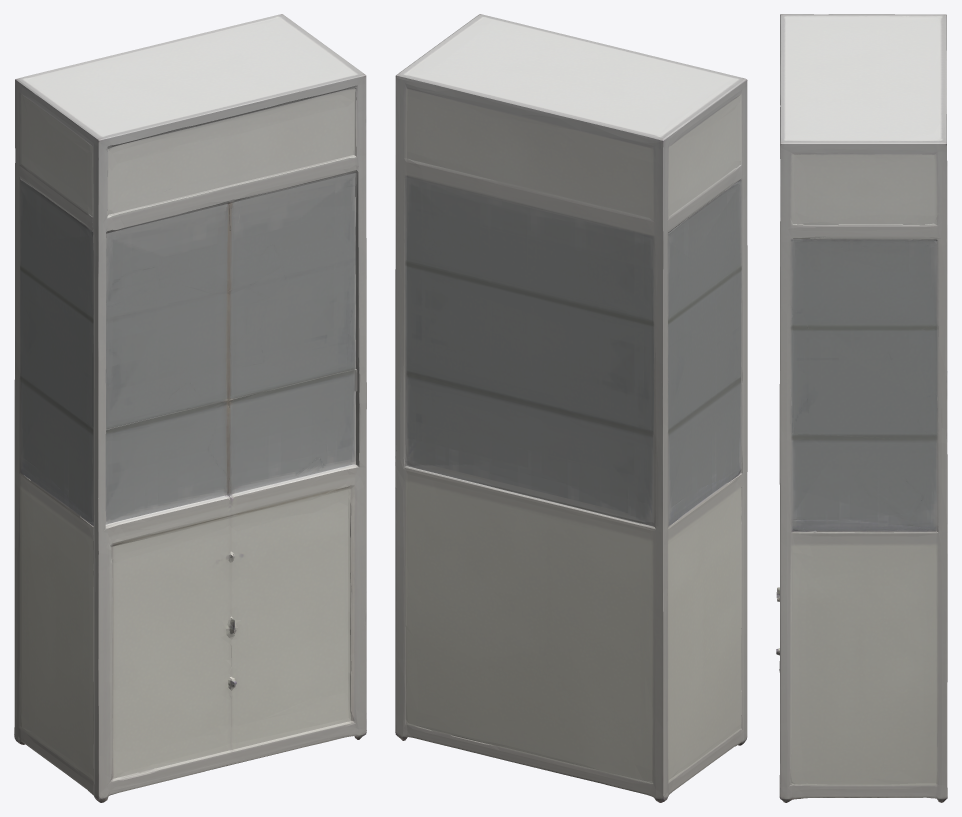
Rendered from isiklivitrin2.glb.
3 renders of one model, left to right at view 1: azimuth 30°, elevation 25°; view 2: azimuth 150°, elevation 25°; view 3: azimuth 270°, elevation 25°, orthographic.
Size of the model in its own units: 42.01 by 99.39 by 23.35.
1 material, 1 textured.
